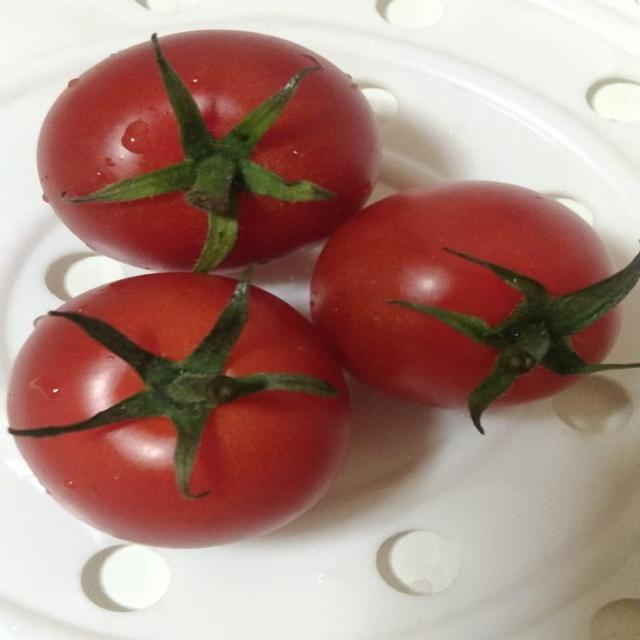tomato: (16, 288, 348, 546), (312, 181, 612, 406), (160, 31, 379, 268)
